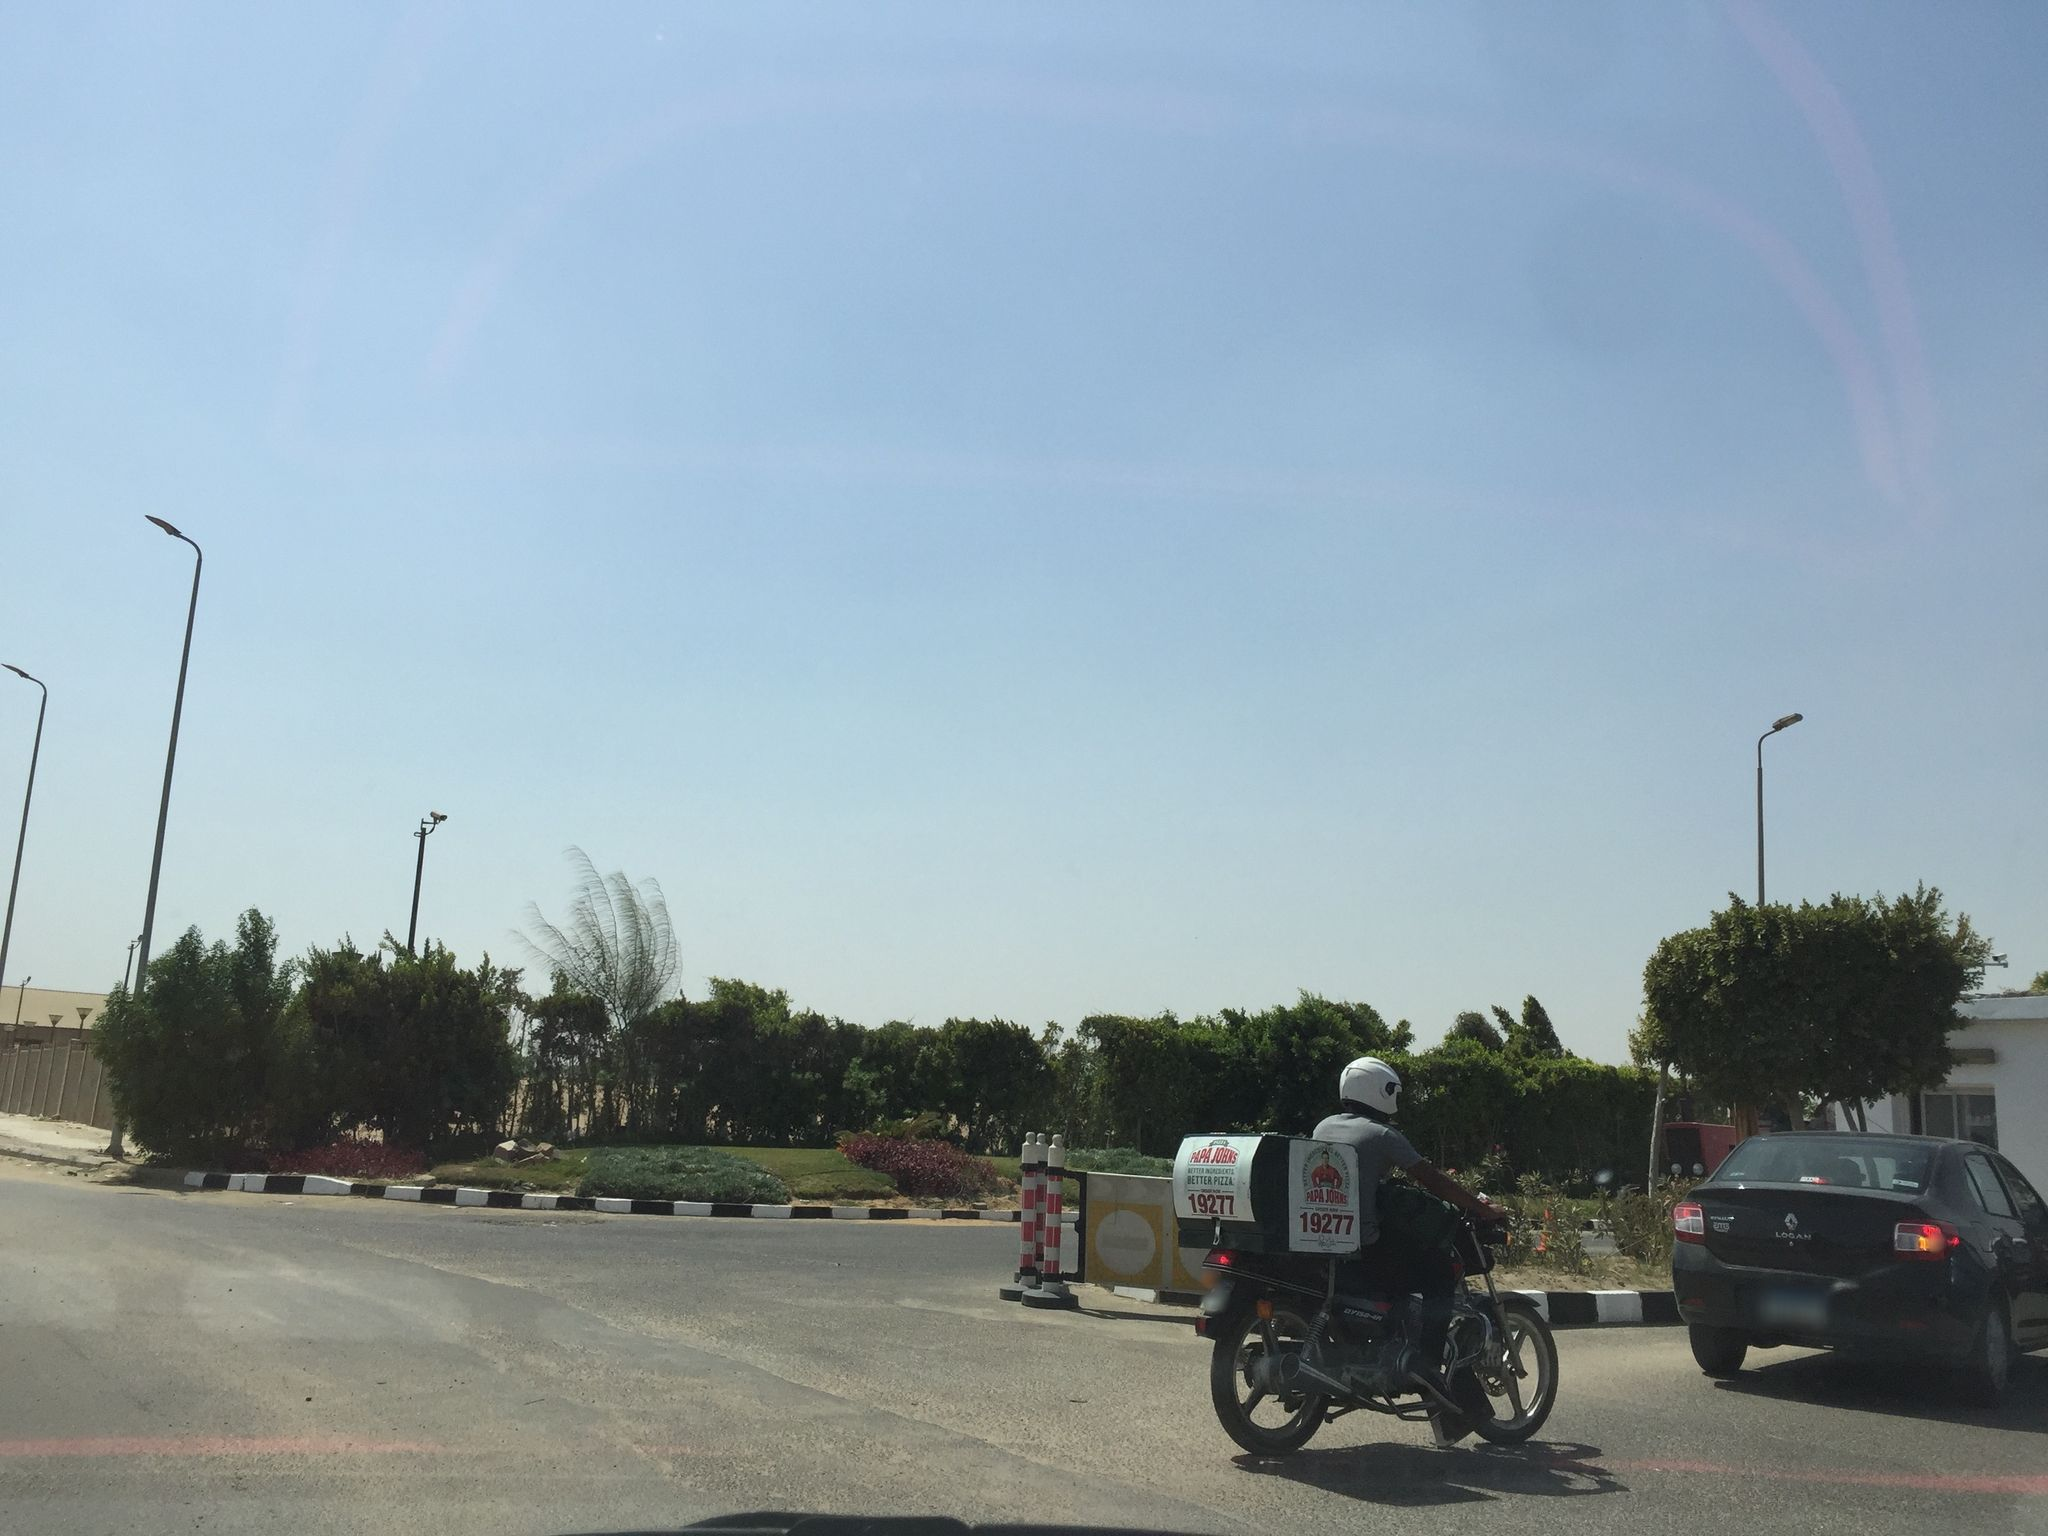car: (1669, 1129, 2046, 1405)
motorcycle: (1168, 1128, 1559, 1462)
